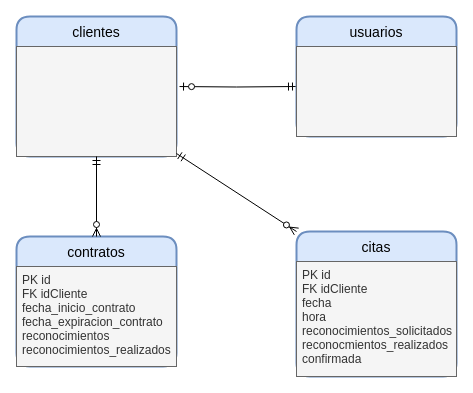
Image size: 473x393. Some labels were removed from this diagram. The shapes that lost their labels are listed below. From the top down, each one's centre as x and y in pixels, then its label:
At pixel 96 101: "PK id UQ cif UQ razonSocial direccion municipio provincia".
At pixel 376 91: "PK id UQ usuario UQ email contrasena rol [admin, medico, cliente]".
